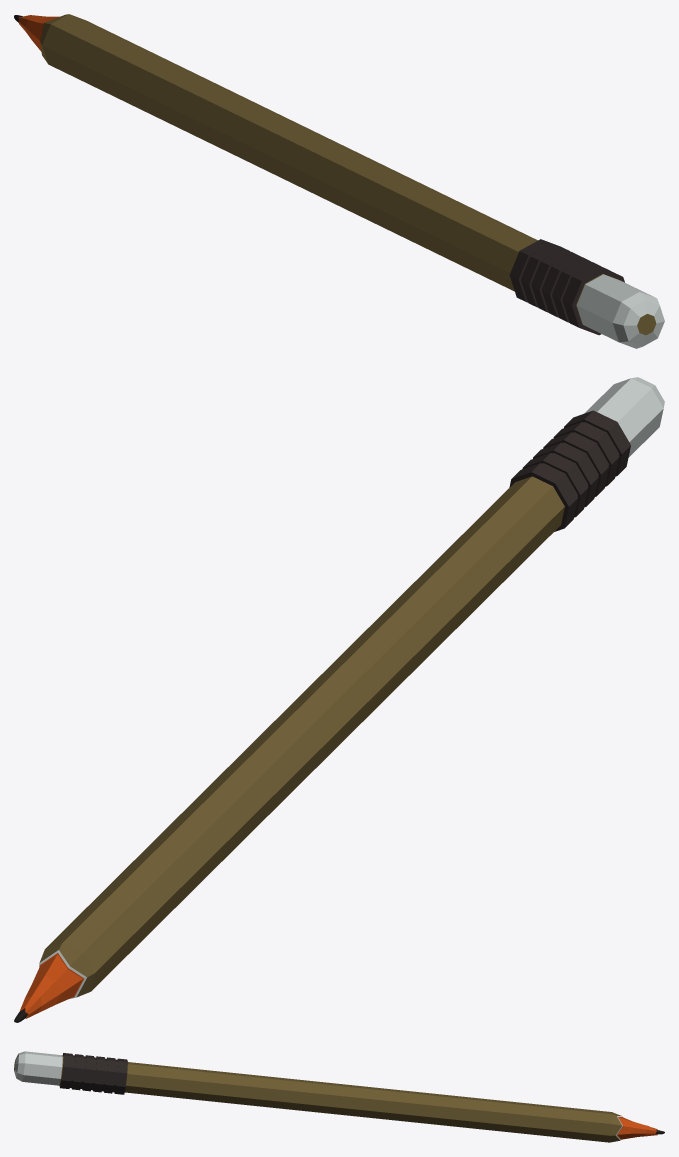
The model's file is low polly pencil.obj.
The picture shows the model from 3 angles, top to bottom: view 1: azimuth 30°, elevation 25°; view 2: azimuth 150°, elevation 25°; view 3: azimuth 270°, elevation 25°; orthographic projection. The views are drawn at different scales.
Visible parts, largest first — view 1: Cylinder, Cylinder.001; view 2: Cylinder, Cylinder.001; view 3: Cylinder, Cylinder.001.
Boxes of the visible parts, x1=… form: Cylinder: x1=18, y1=14, x2=664, y2=348; Cylinder.001: x1=509, y1=239, x2=624, y2=335; Cylinder: x1=20, y1=377, x2=664, y2=1018; Cylinder.001: x1=509, y1=410, x2=630, y2=531; Cylinder: x1=14, y1=1051, x2=657, y2=1142; Cylinder.001: x1=59, y1=1053, x2=127, y2=1094.
Bounding box in the file's own units: 0.0133 × 0.0315 × 0.1992.
